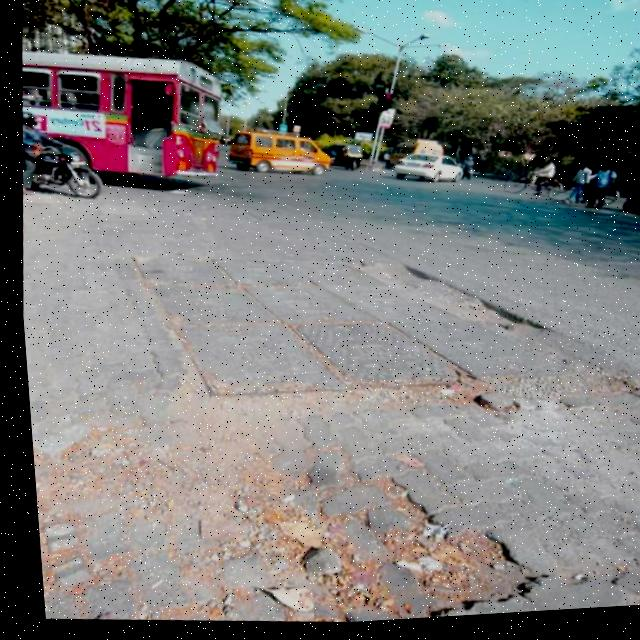Pothole: (257, 487, 536, 629), (24, 408, 243, 535), (368, 349, 634, 439), (449, 298, 533, 345), (358, 250, 430, 304)
